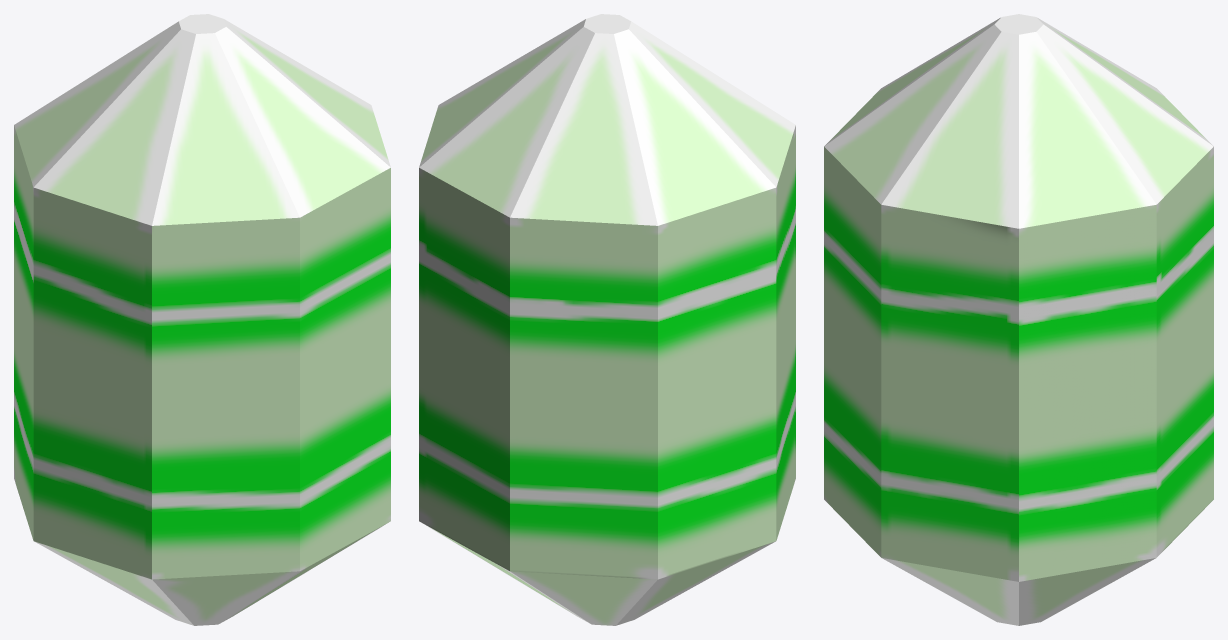
File: velocityBooster.gltf
3 renders of one model, left to right at view 1: azimuth 30°, elevation 25°; view 2: azimuth 150°, elevation 25°; view 3: azimuth 270°, elevation 25°, orthographic.
Visible parts, largest first — view 1: Cylinder; view 2: Cylinder; view 3: Cylinder.
Boxes of the visible parts, x1=… form: Cylinder: x1=14, y1=14, x2=390, y2=625; Cylinder: x1=419, y1=14, x2=795, y2=625; Cylinder: x1=824, y1=14, x2=1213, y2=625.
Size of the model in its own units: 0.733 by 1.22 by 0.733.
Materials: 1 (1 with a texture image).
